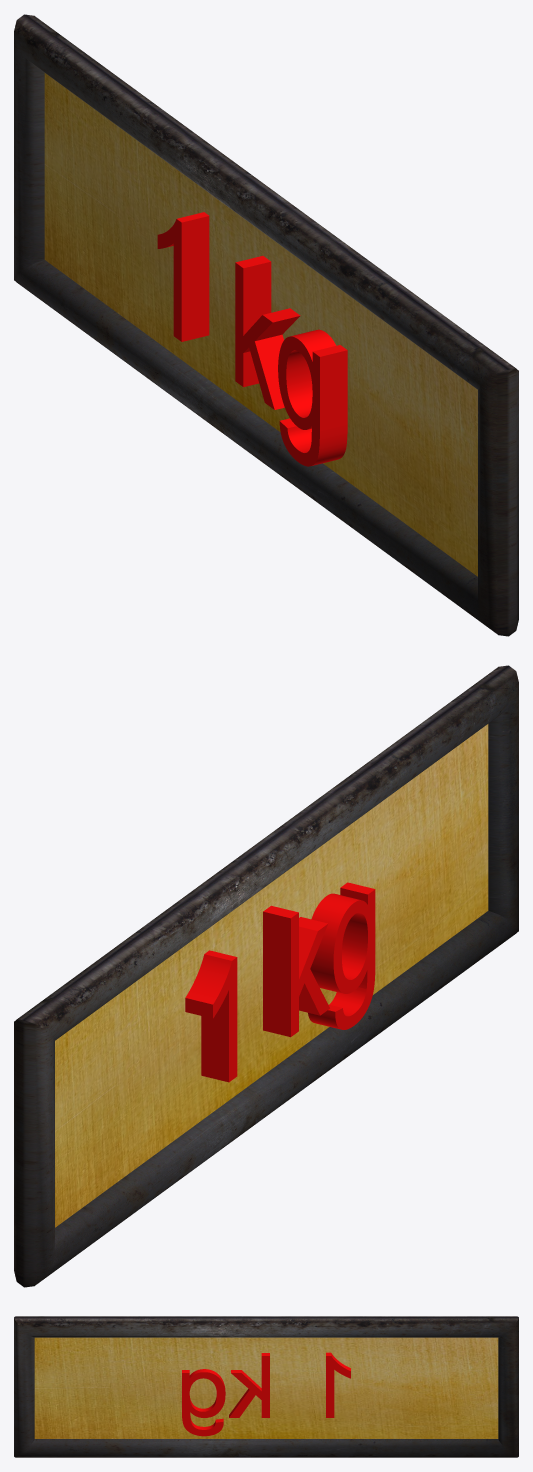
3 views of the same model, one above another, from view 1: azimuth 30°, elevation 25°; view 2: azimuth 150°, elevation 25°; view 3: azimuth 270°, elevation 25° (orthographic). The views are drawn at different scales.
Visible parts, largest first — view 1: Box003, 图形001, 加强型文本004; view 2: Box003, 图形001, 加强型文本004; view 3: Box003, 图形001, 加强型文本004.
Boxes of the visible parts, x1,y1,x2,y2 form: Box003: (44,73,477,576); 图形001: (14,14,518,636); 加强型文本004: (157,212,347,466); Box003: (55,724,488,1227); 图形001: (14,665,518,1287); 加强型文本004: (185,882,375,1082); Box003: (34,1337,498,1438); 图形001: (14,1316,518,1457); 加强型文本004: (182,1352,350,1436).
Bounding box in the file's own units: 1.03 × 5.77 × 18.94.
Materials: 3 (2 with a texture image).
